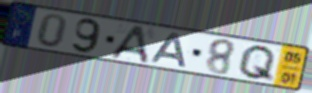0: (35, 13, 69, 49)
8: (203, 38, 237, 76)
9: (71, 17, 105, 55)
A: (108, 25, 151, 65), (150, 32, 189, 69)
Q: (236, 44, 279, 84)
